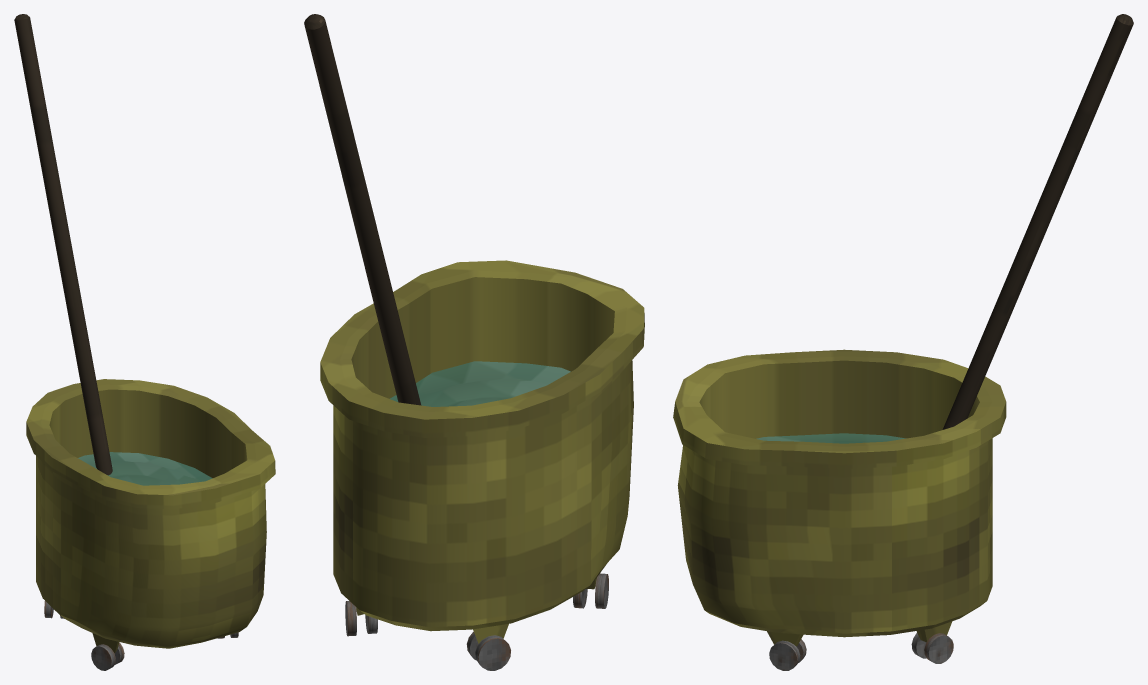
File: MopandBucket.fbx
The picture shows the model from 3 angles, left to right: view 1: azimuth 30°, elevation 25°; view 2: azimuth 150°, elevation 25°; view 3: azimuth 270°, elevation 25°; orthographic projection. The views are drawn at different scales.
Visible parts, largest first — view 1: pCylinder1, pCylinder10, pCylinder4; view 2: pCylinder1, pCylinder10, pCylinder6; view 3: pCylinder1, pCylinder10, pCylinder2, pCylinder9.
Boxes of the visible parts, bbox=[...] form: pCylinder1: bbox=[26, 379, 275, 653]; pCylinder10: bbox=[14, 14, 112, 475]; pCylinder4: bbox=[91, 644, 115, 670]; pCylinder1: bbox=[320, 260, 644, 643]; pCylinder10: bbox=[304, 14, 421, 405]; pCylinder6: bbox=[475, 635, 510, 670]; pCylinder1: bbox=[673, 349, 1006, 646]; pCylinder10: bbox=[942, 14, 1133, 429]; pCylinder2: bbox=[769, 640, 800, 670]; pCylinder9: bbox=[924, 633, 953, 663].
Bounding box in the file's own units: 2.33 × 6.47 × 4.38.
